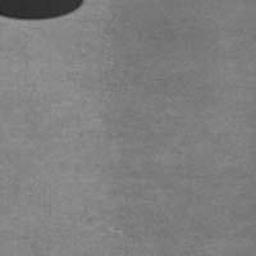Punching: (0, 0, 83, 22)
